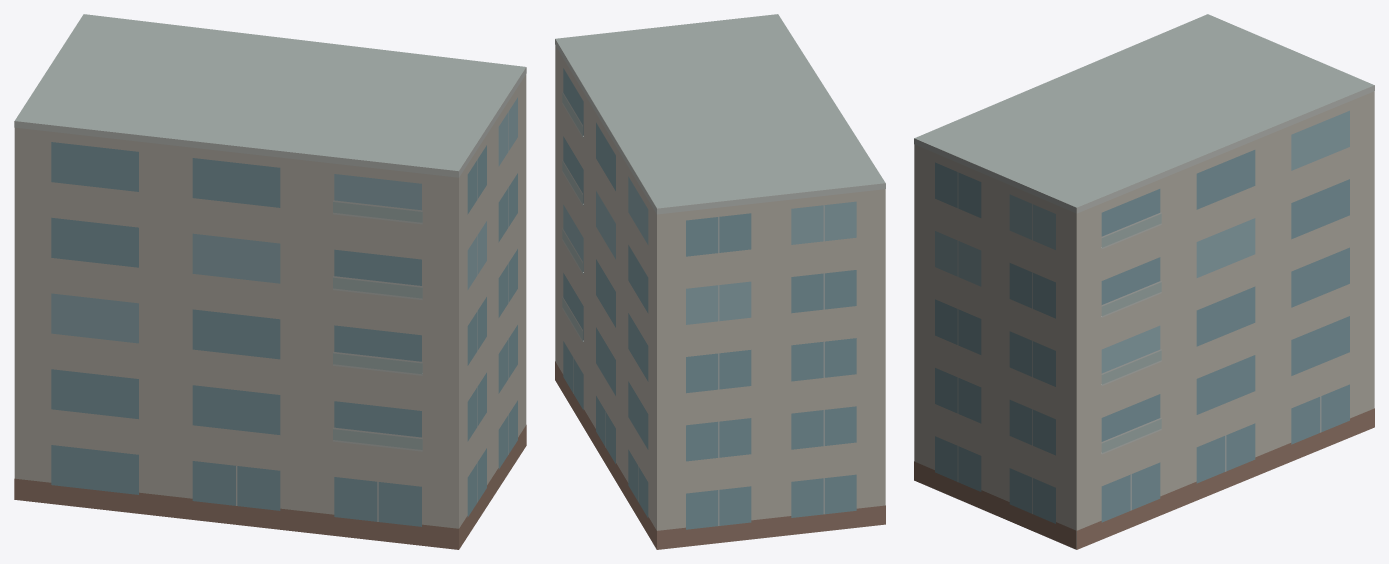
Rendered from survey-upis-33024165.glb.
3 renders of one model, left to right at view 1: azimuth 30°, elevation 25°; view 2: azimuth 150°, elevation 25°; view 3: azimuth 270°, elevation 25°, orthographic. The views are drawn at different scales.
Parts seen in each view (by area): view 1: survey-upis-33024165.tmp; view 2: survey-upis-33024165.tmp; view 3: survey-upis-33024165.tmp.
Part boxes in pixels (x1,y1,x2,y2): survey-upis-33024165.tmp: (14, 14, 526, 549); survey-upis-33024165.tmp: (555, 14, 885, 549); survey-upis-33024165.tmp: (914, 14, 1374, 549).
Size of the model in its own units: 17.13 by 14.1 by 17.2.
